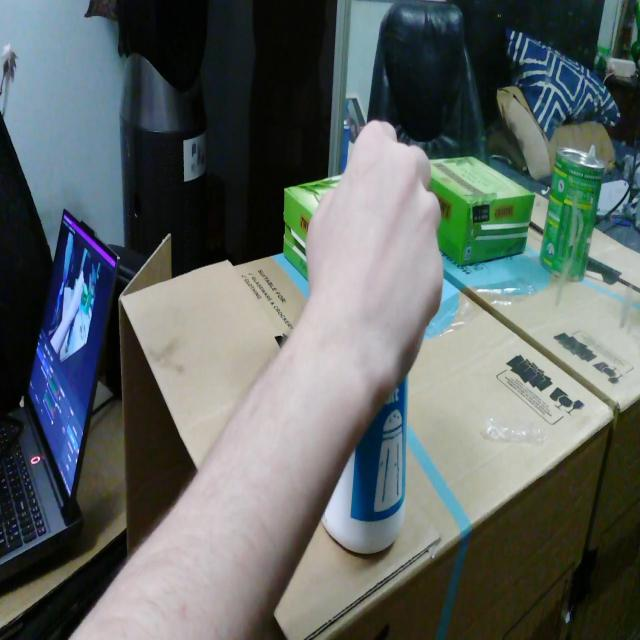twinings_greentea_box: (284, 175, 342, 280)
woolworths_salt_bottle: (321, 374, 408, 554)
